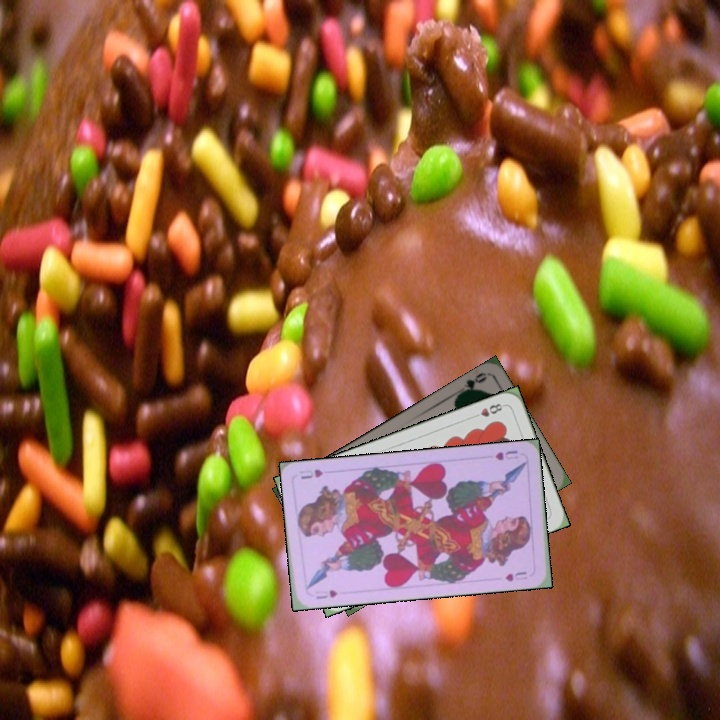GO: (453, 368, 490, 398)
H8: (468, 399, 507, 421)
HU: (491, 446, 521, 463), (312, 586, 340, 602)
